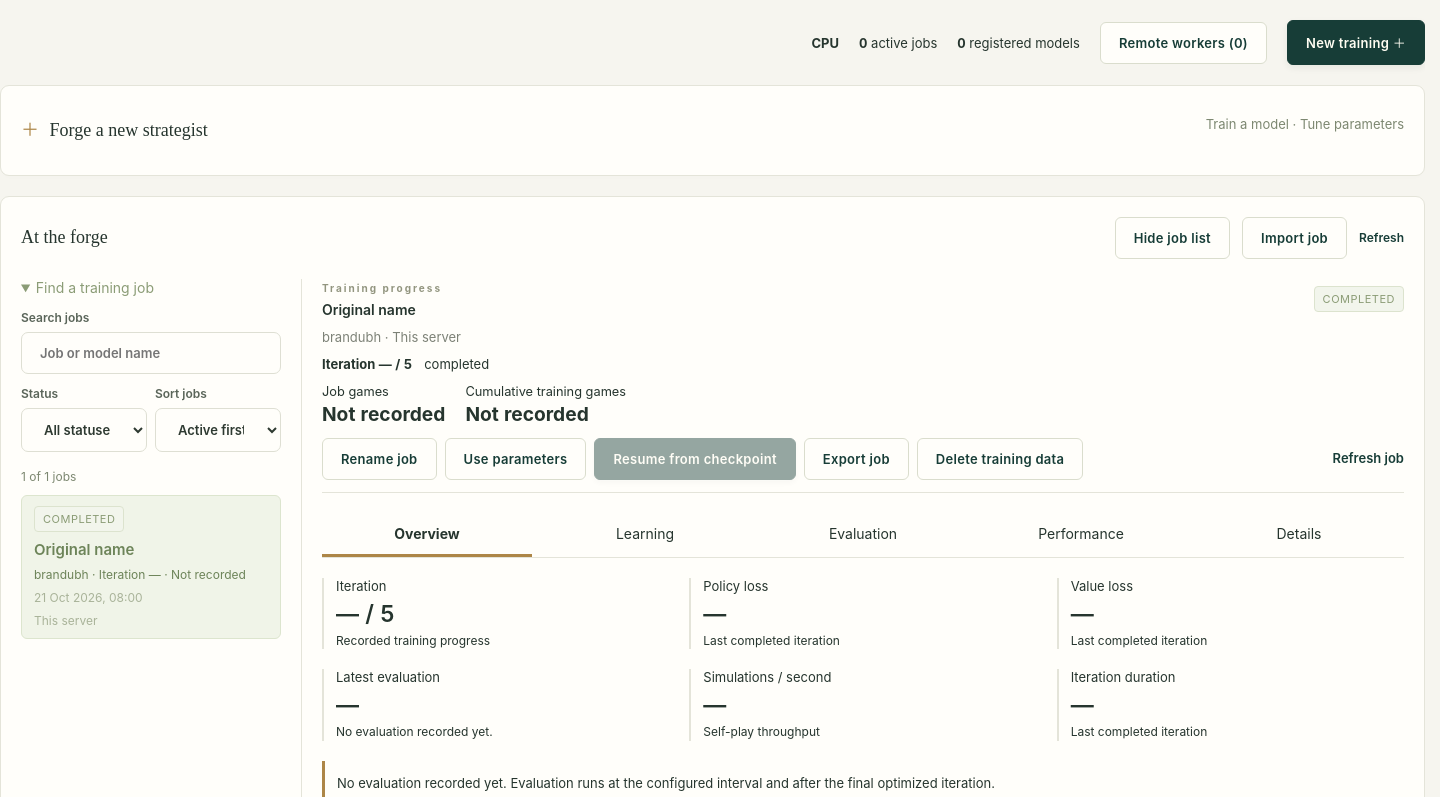
Test case: training job rename › prepopulates the current name and persists an edit without a page reload
This screenshot has width=1440, height=797.
Click the button "Rename job": (379, 459) 322,438 -> 436,480
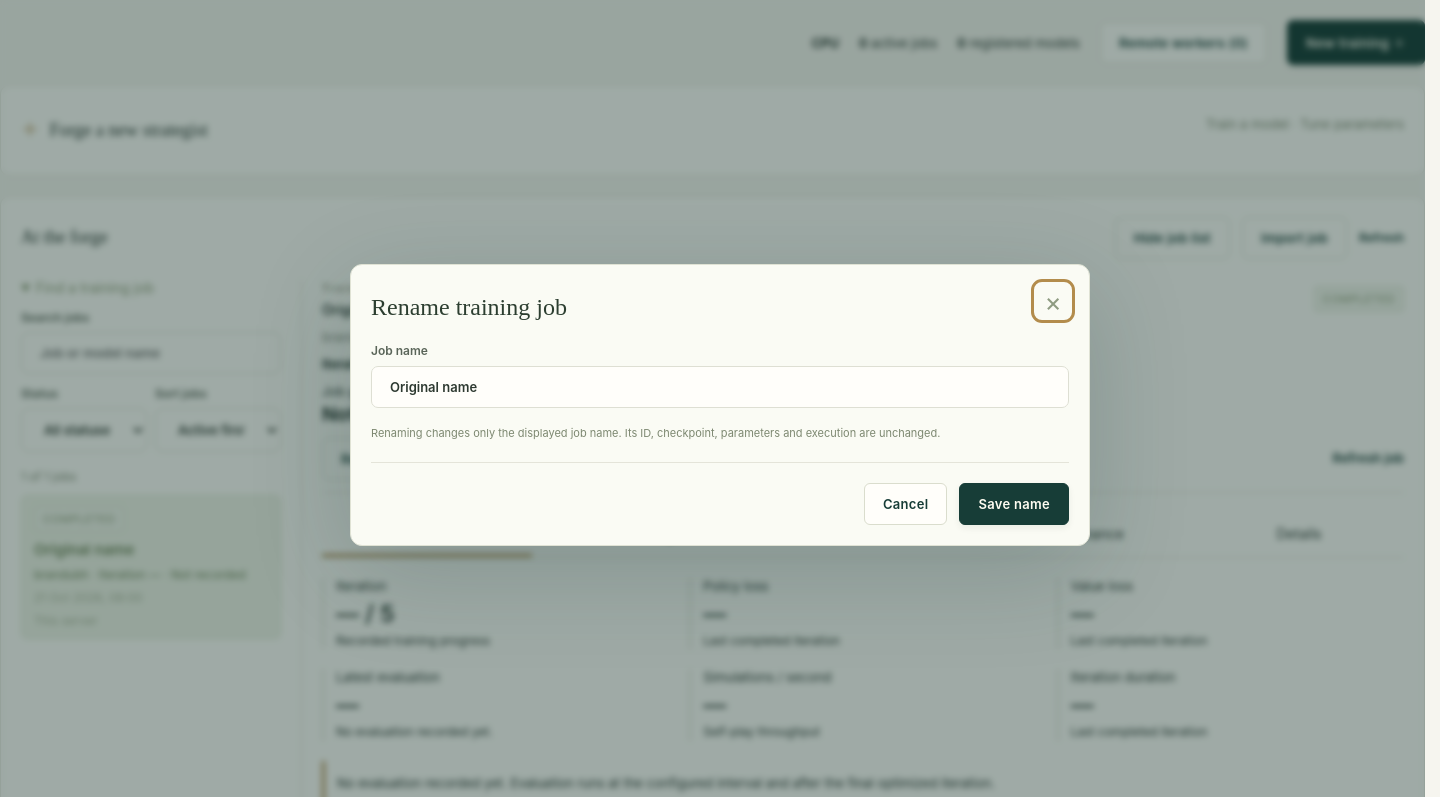
Result: the field labelled "Job name" holds "Original name"
Replace the text in the field labelled "Job name" with "  Raven campaign  ": (720, 387) 371,366 -> 1069,408
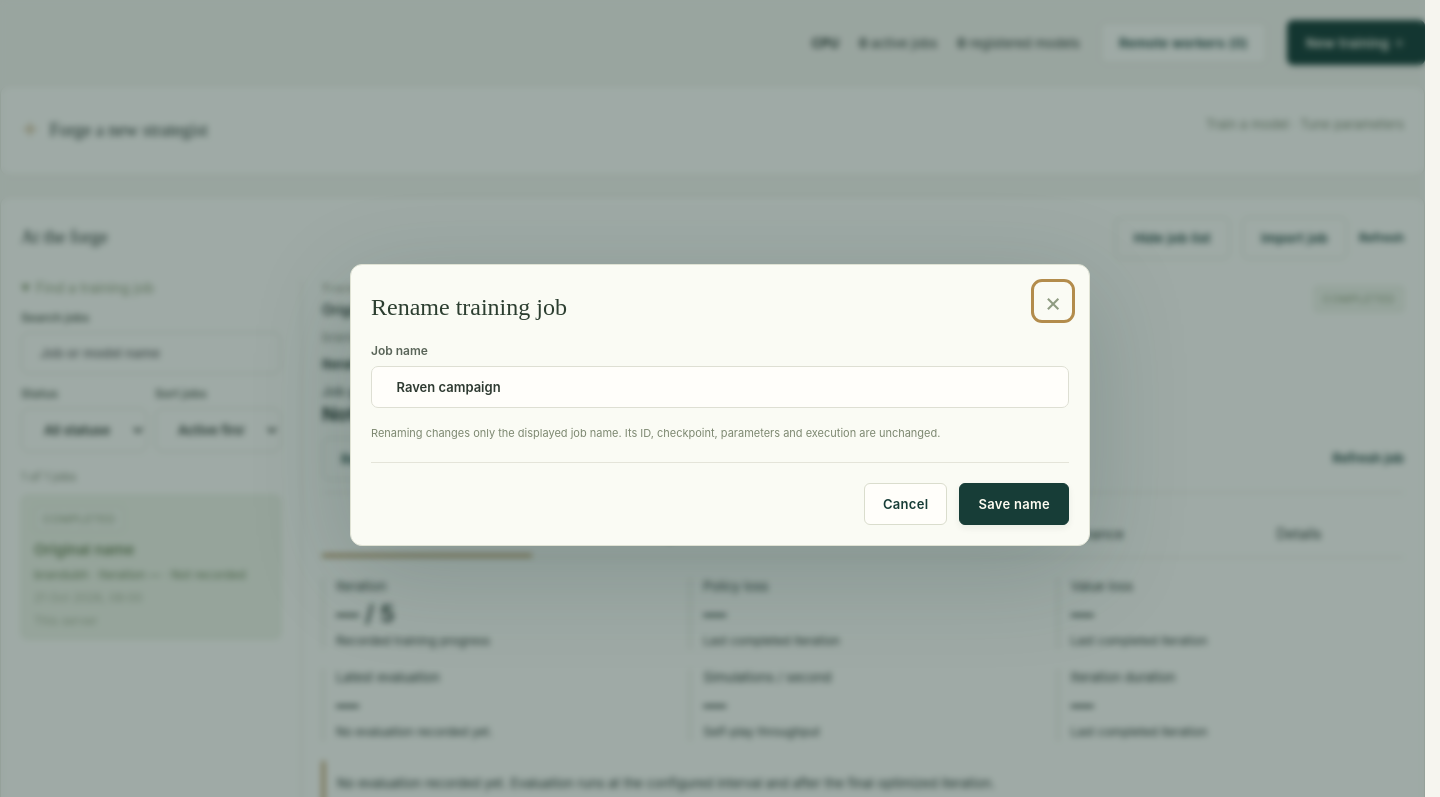
Click the button "Save name": (1014, 504) 959,483 -> 1069,525
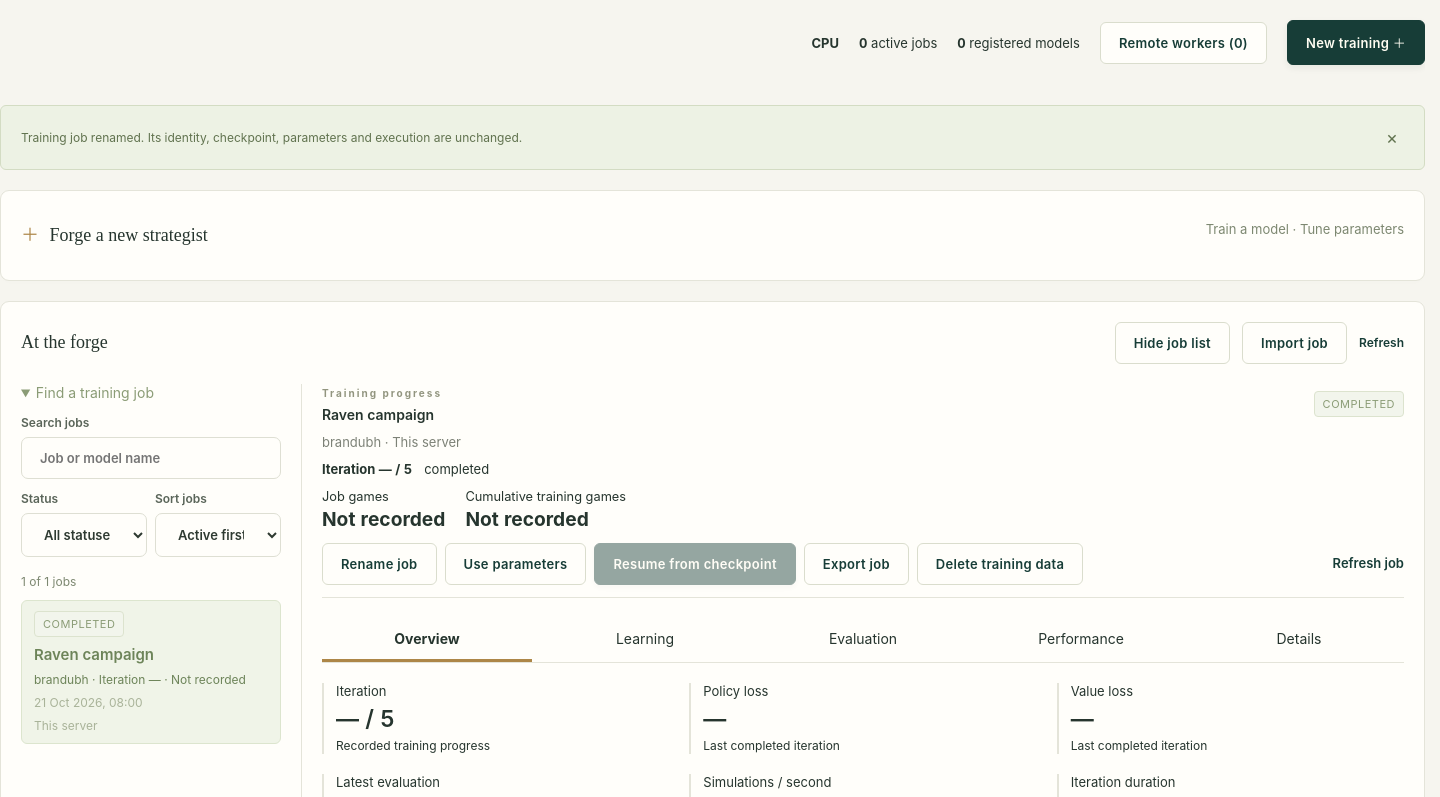
Result: the text "Raven campaign" is shown at 34,645 -> 154,664
Result: the heading "Rename training job" is gone
